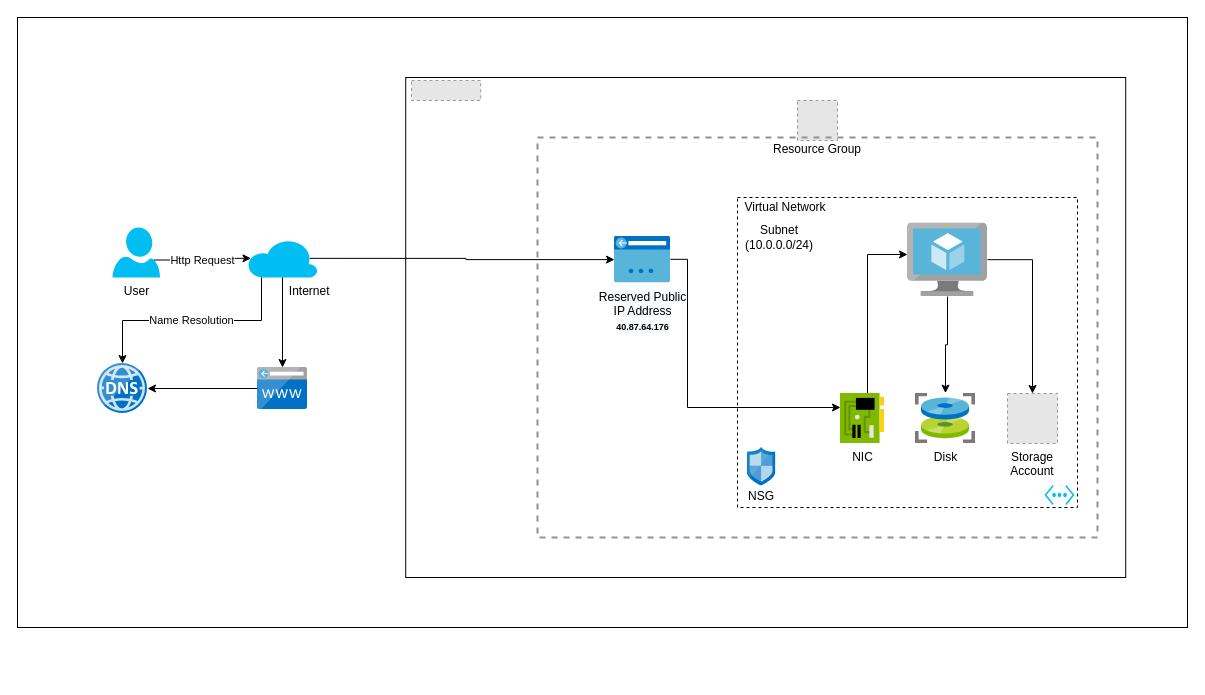
This 1205x695 diagram has some shape labels left out. Grey dashed boxes stand in for pictures. The centre of each missing label's shape, as x and y in pixels:
App Service Domain www.thegenrepredict.com: the point at 282,388
Azure DNS predict.eastus.cloudapp.azure.com: the point at 122,388
VM (Windows Server 2016 Datacenter) Flask Web Server: the point at 947,259
